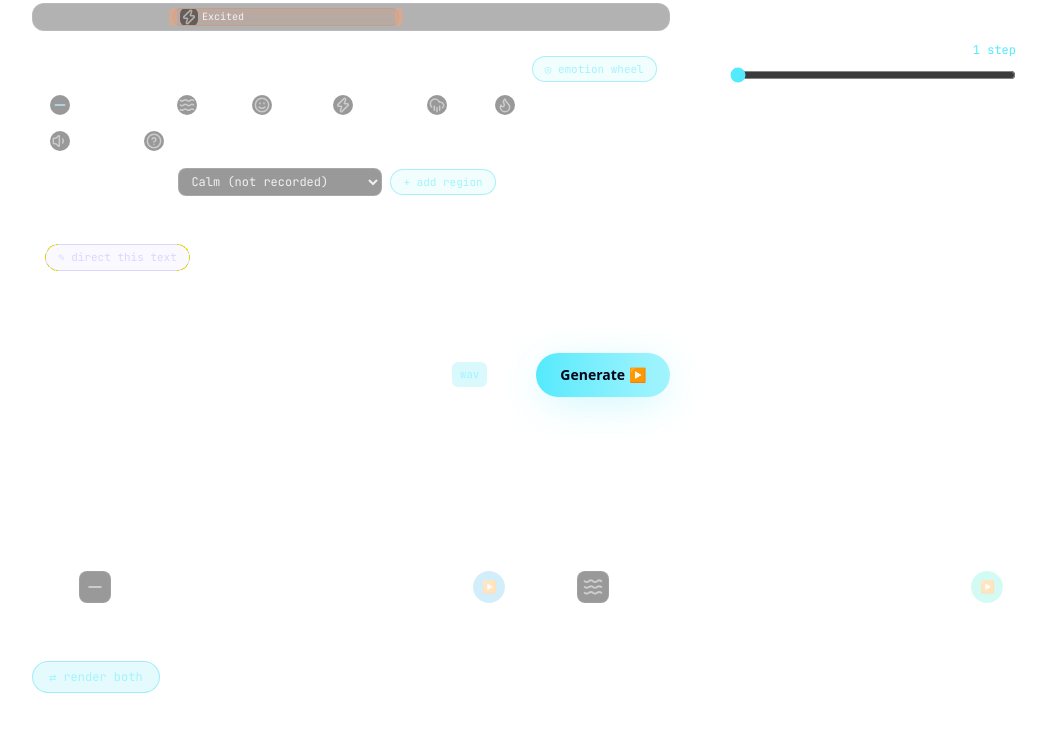
Test: PlaygroundConsole — the queue reading says whether it is a reading › reports the queue as UNAVAILABLE when a keyed backend answers an unkeyed studio
(page scrolled)
Click the button "Generate ▶" at (603, 374), box [536,352,670,396]
(page scrolled)
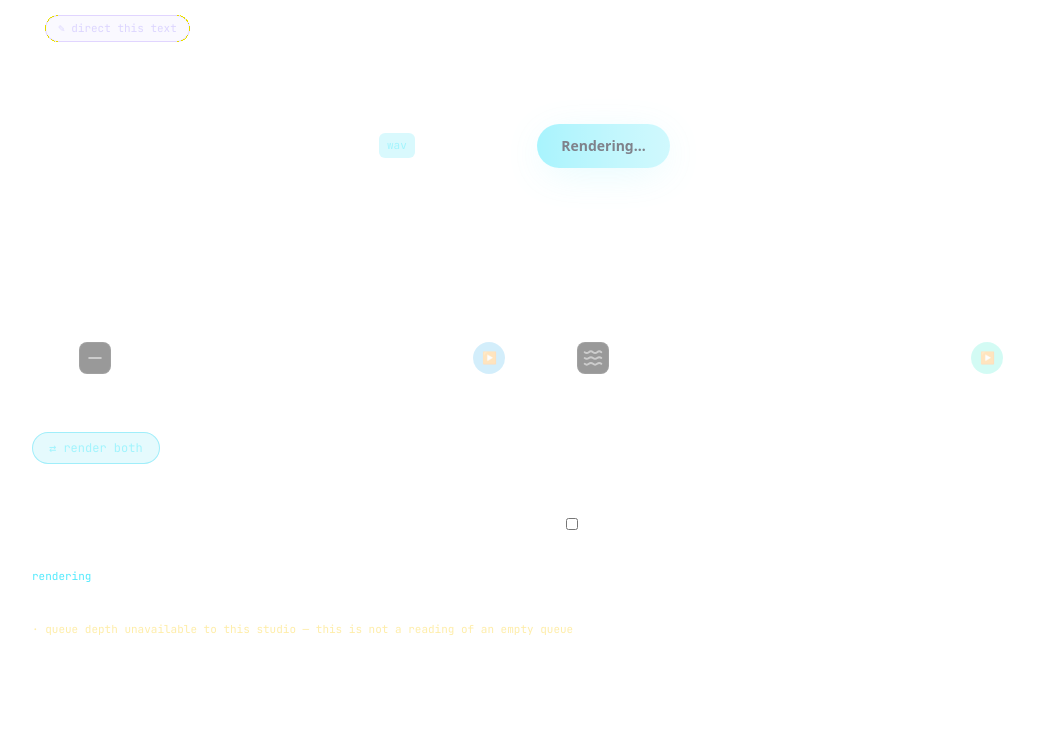
Expected: the text "rendering" does not show "queue clear", [12,545,1036,654]
Expected: the text "rendering" shows "queue depth unavailable to this studio", [32,622,573,636]
